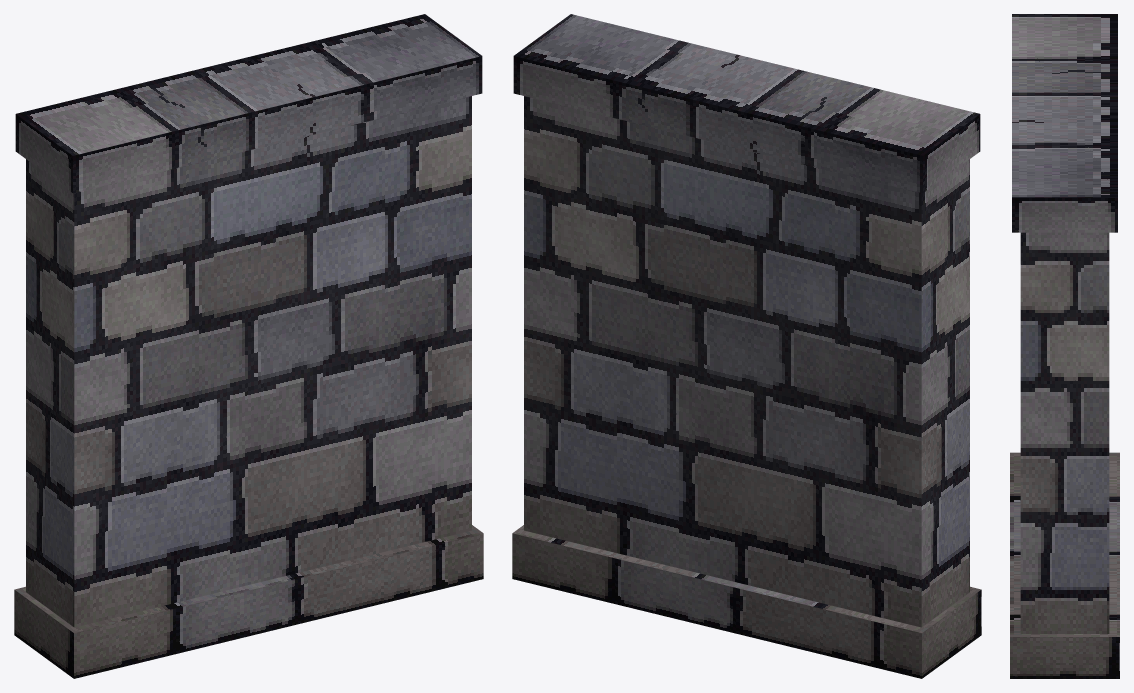
Rendered from catacumba_parede.glb.
3 views of the same model, side by side, from view 1: azimuth 30°, elevation 25°; view 2: azimuth 150°, elevation 25°; view 3: azimuth 270°, elevation 25° (orthographic). The views are drawn at different scales.
Parts seen in each view (by area): view 1: catacumba_parede; view 2: catacumba_parede; view 3: catacumba_parede.
Boxes of the visible parts, x1=… form: catacumba_parede: x1=14, y1=14, x2=483, y2=678; catacumba_parede: x1=512, y1=14, x2=981, y2=678; catacumba_parede: x1=1010, y1=14, x2=1119, y2=678.
Bounding box in the file's own units: 2.06 × 2.51 × 0.52.
1 material, 1 textured.
